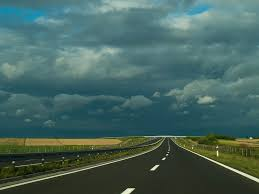strada: (1, 138, 259, 192)
